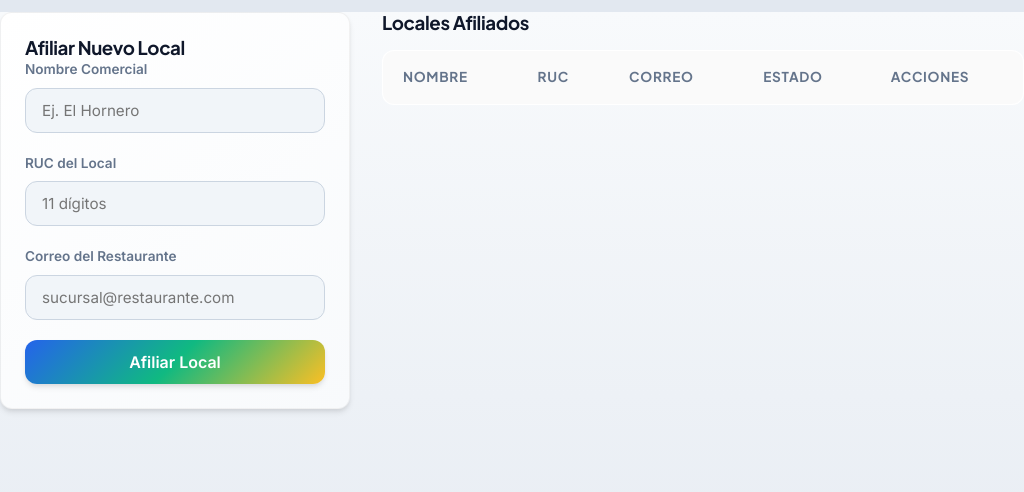
Test: RestaurantManager Component › should show error when RUC is less than 11 digits
In the field labelled "Nombre Comercial": (175, 110) [25,88,325,133], type "Bembos"
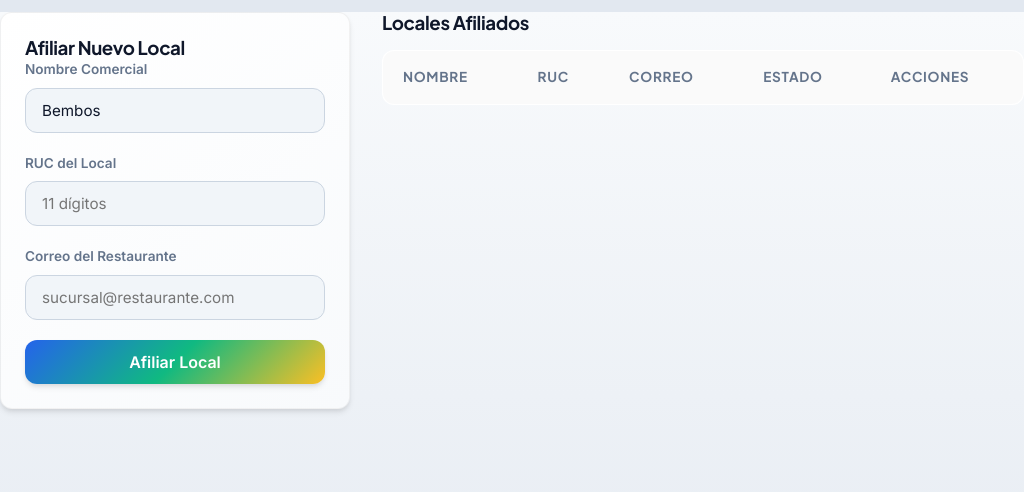
In the field labelled "RUC del Local": (175, 204) [25,181,325,226], type "123"
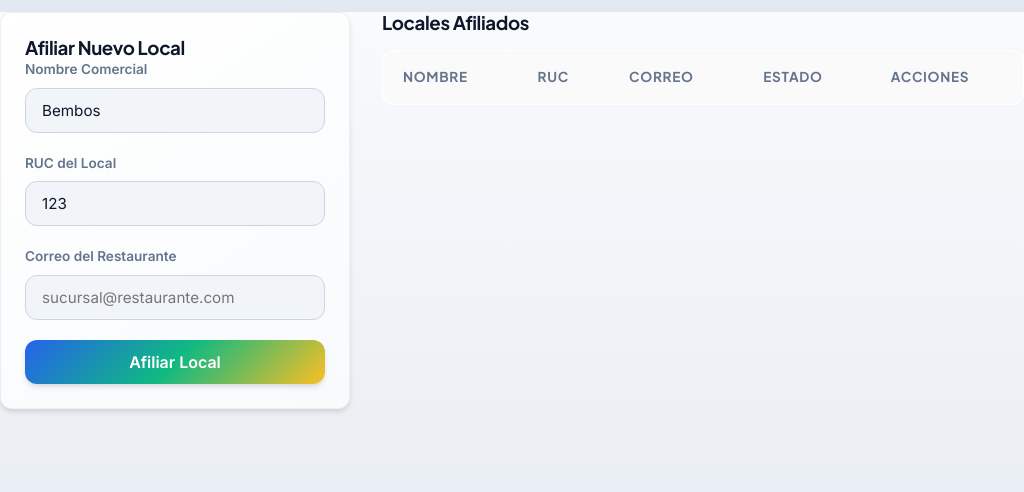
In the field labelled "Correo del Restaurante": (175, 297) [25,275,325,320], type "bembos@test.com"
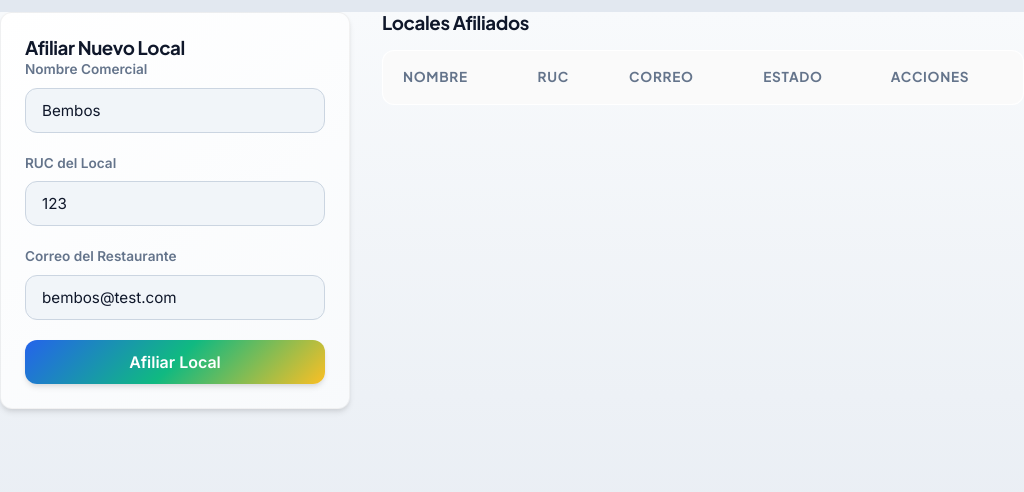
Submit the form with test id "restaurant-form", box [25,60,325,384]
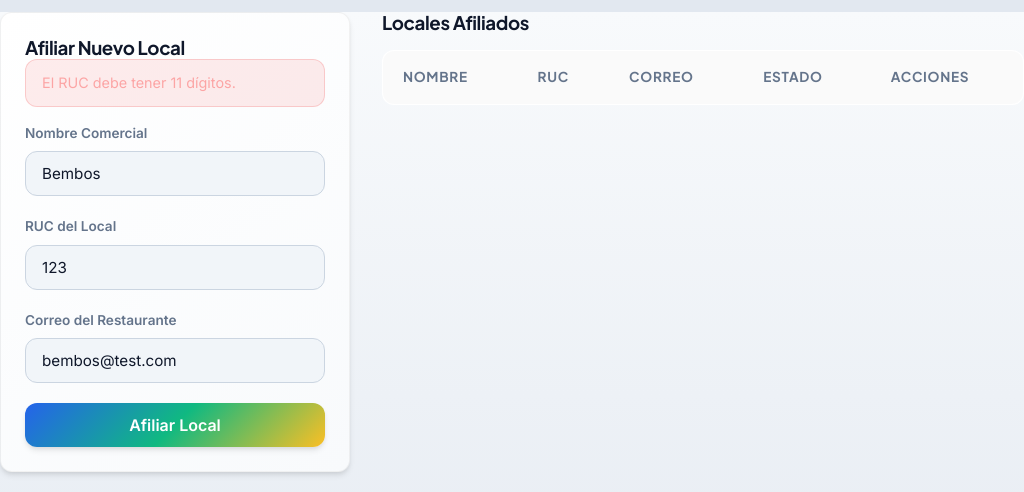
Check: the text with test id "form-error-alert" reads "El RUC debe tener 11 dígitos.", box [42,74,236,92]
